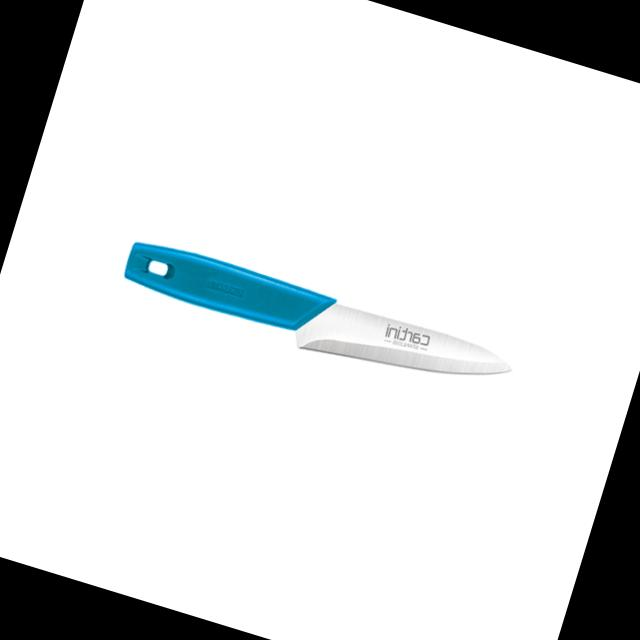Weapon: (102, 220, 524, 426)
